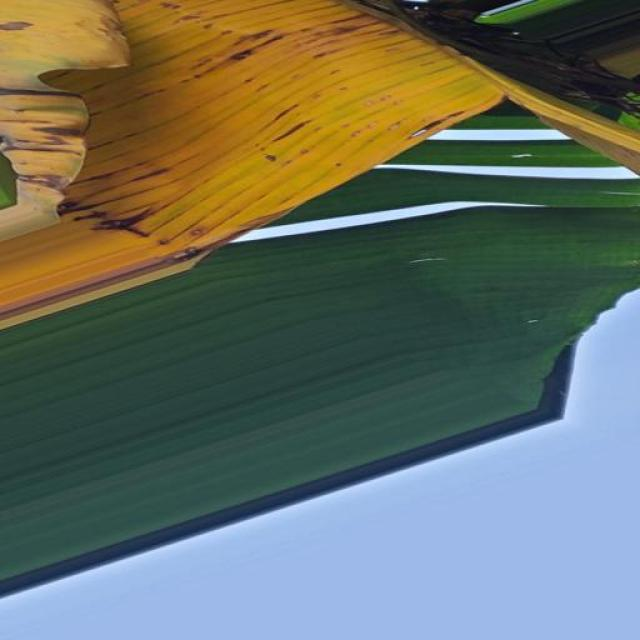Cordana: (0, 0, 639, 316)
